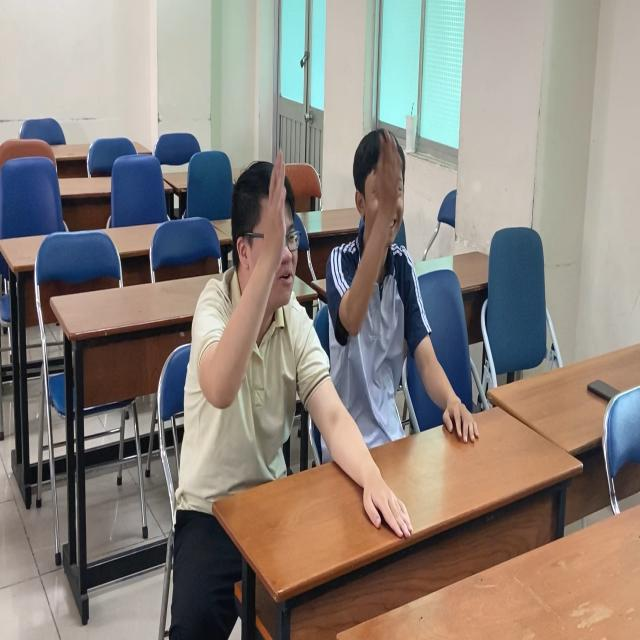raise_hand: (181, 149, 317, 499), (318, 118, 454, 454)
